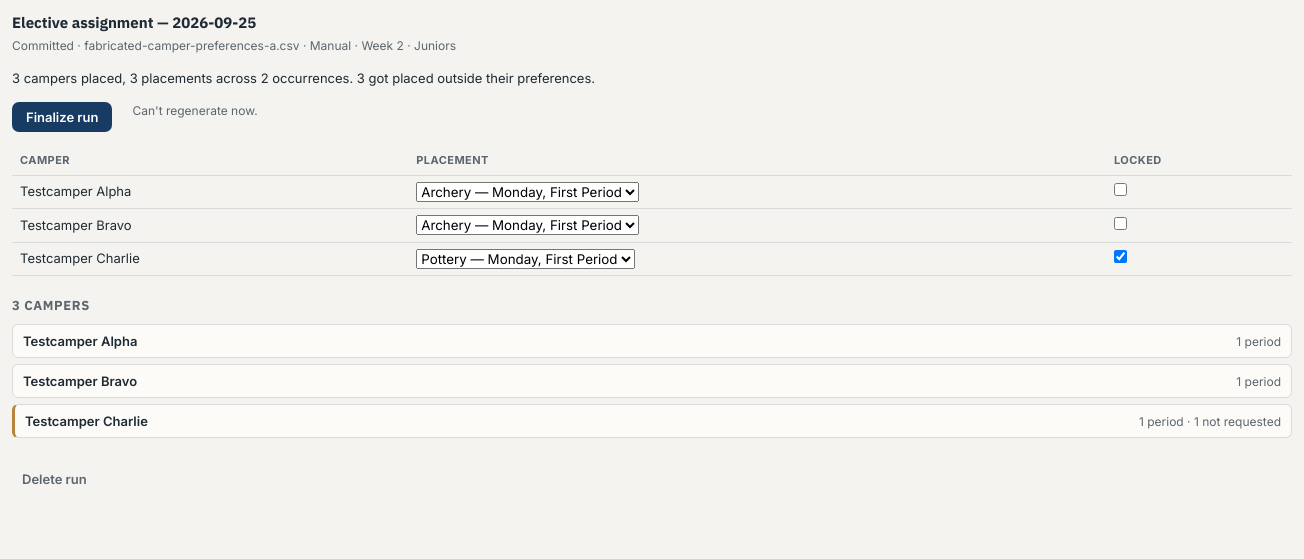
Test: T250 A1 — Finalize run › LOCKED_SEATS_OVERWRITTEN names the count and what to do, inline, with no list of ids
Click the button "Finalize run" at (62, 117), box [12,102,112,132]
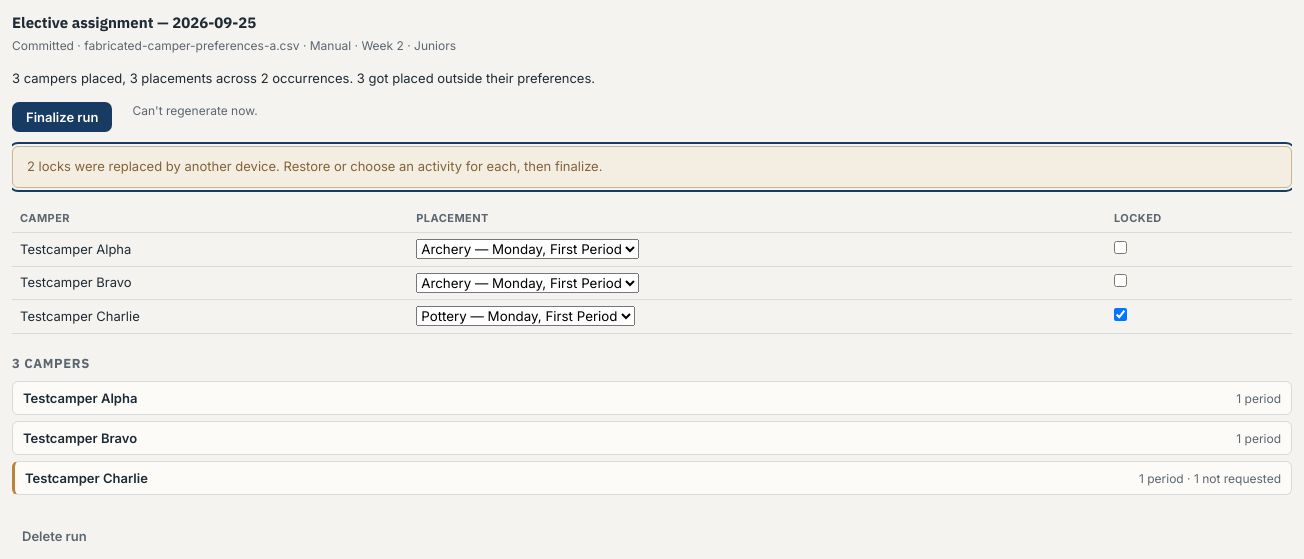
Now the message with test id "run-state-finalize-refusal" shows "2 locks were replaced by another device. Restore or choose an activity for each, then finalize.", box [27,158,602,174]
